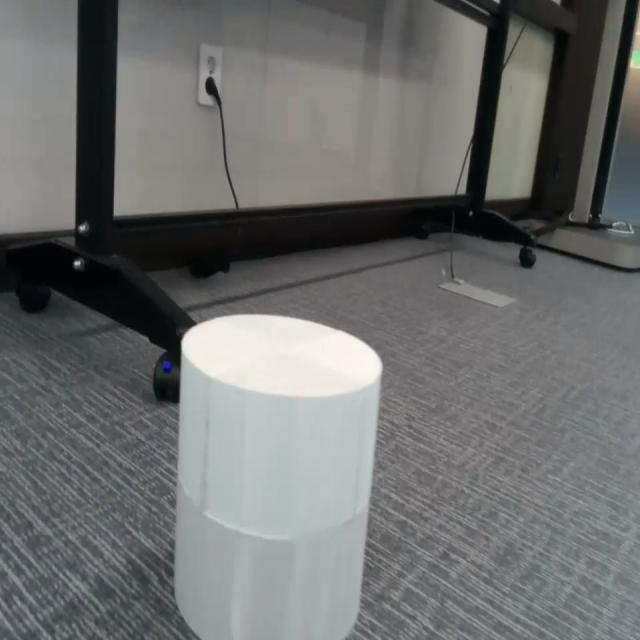cylinder: (174, 314, 383, 635)
